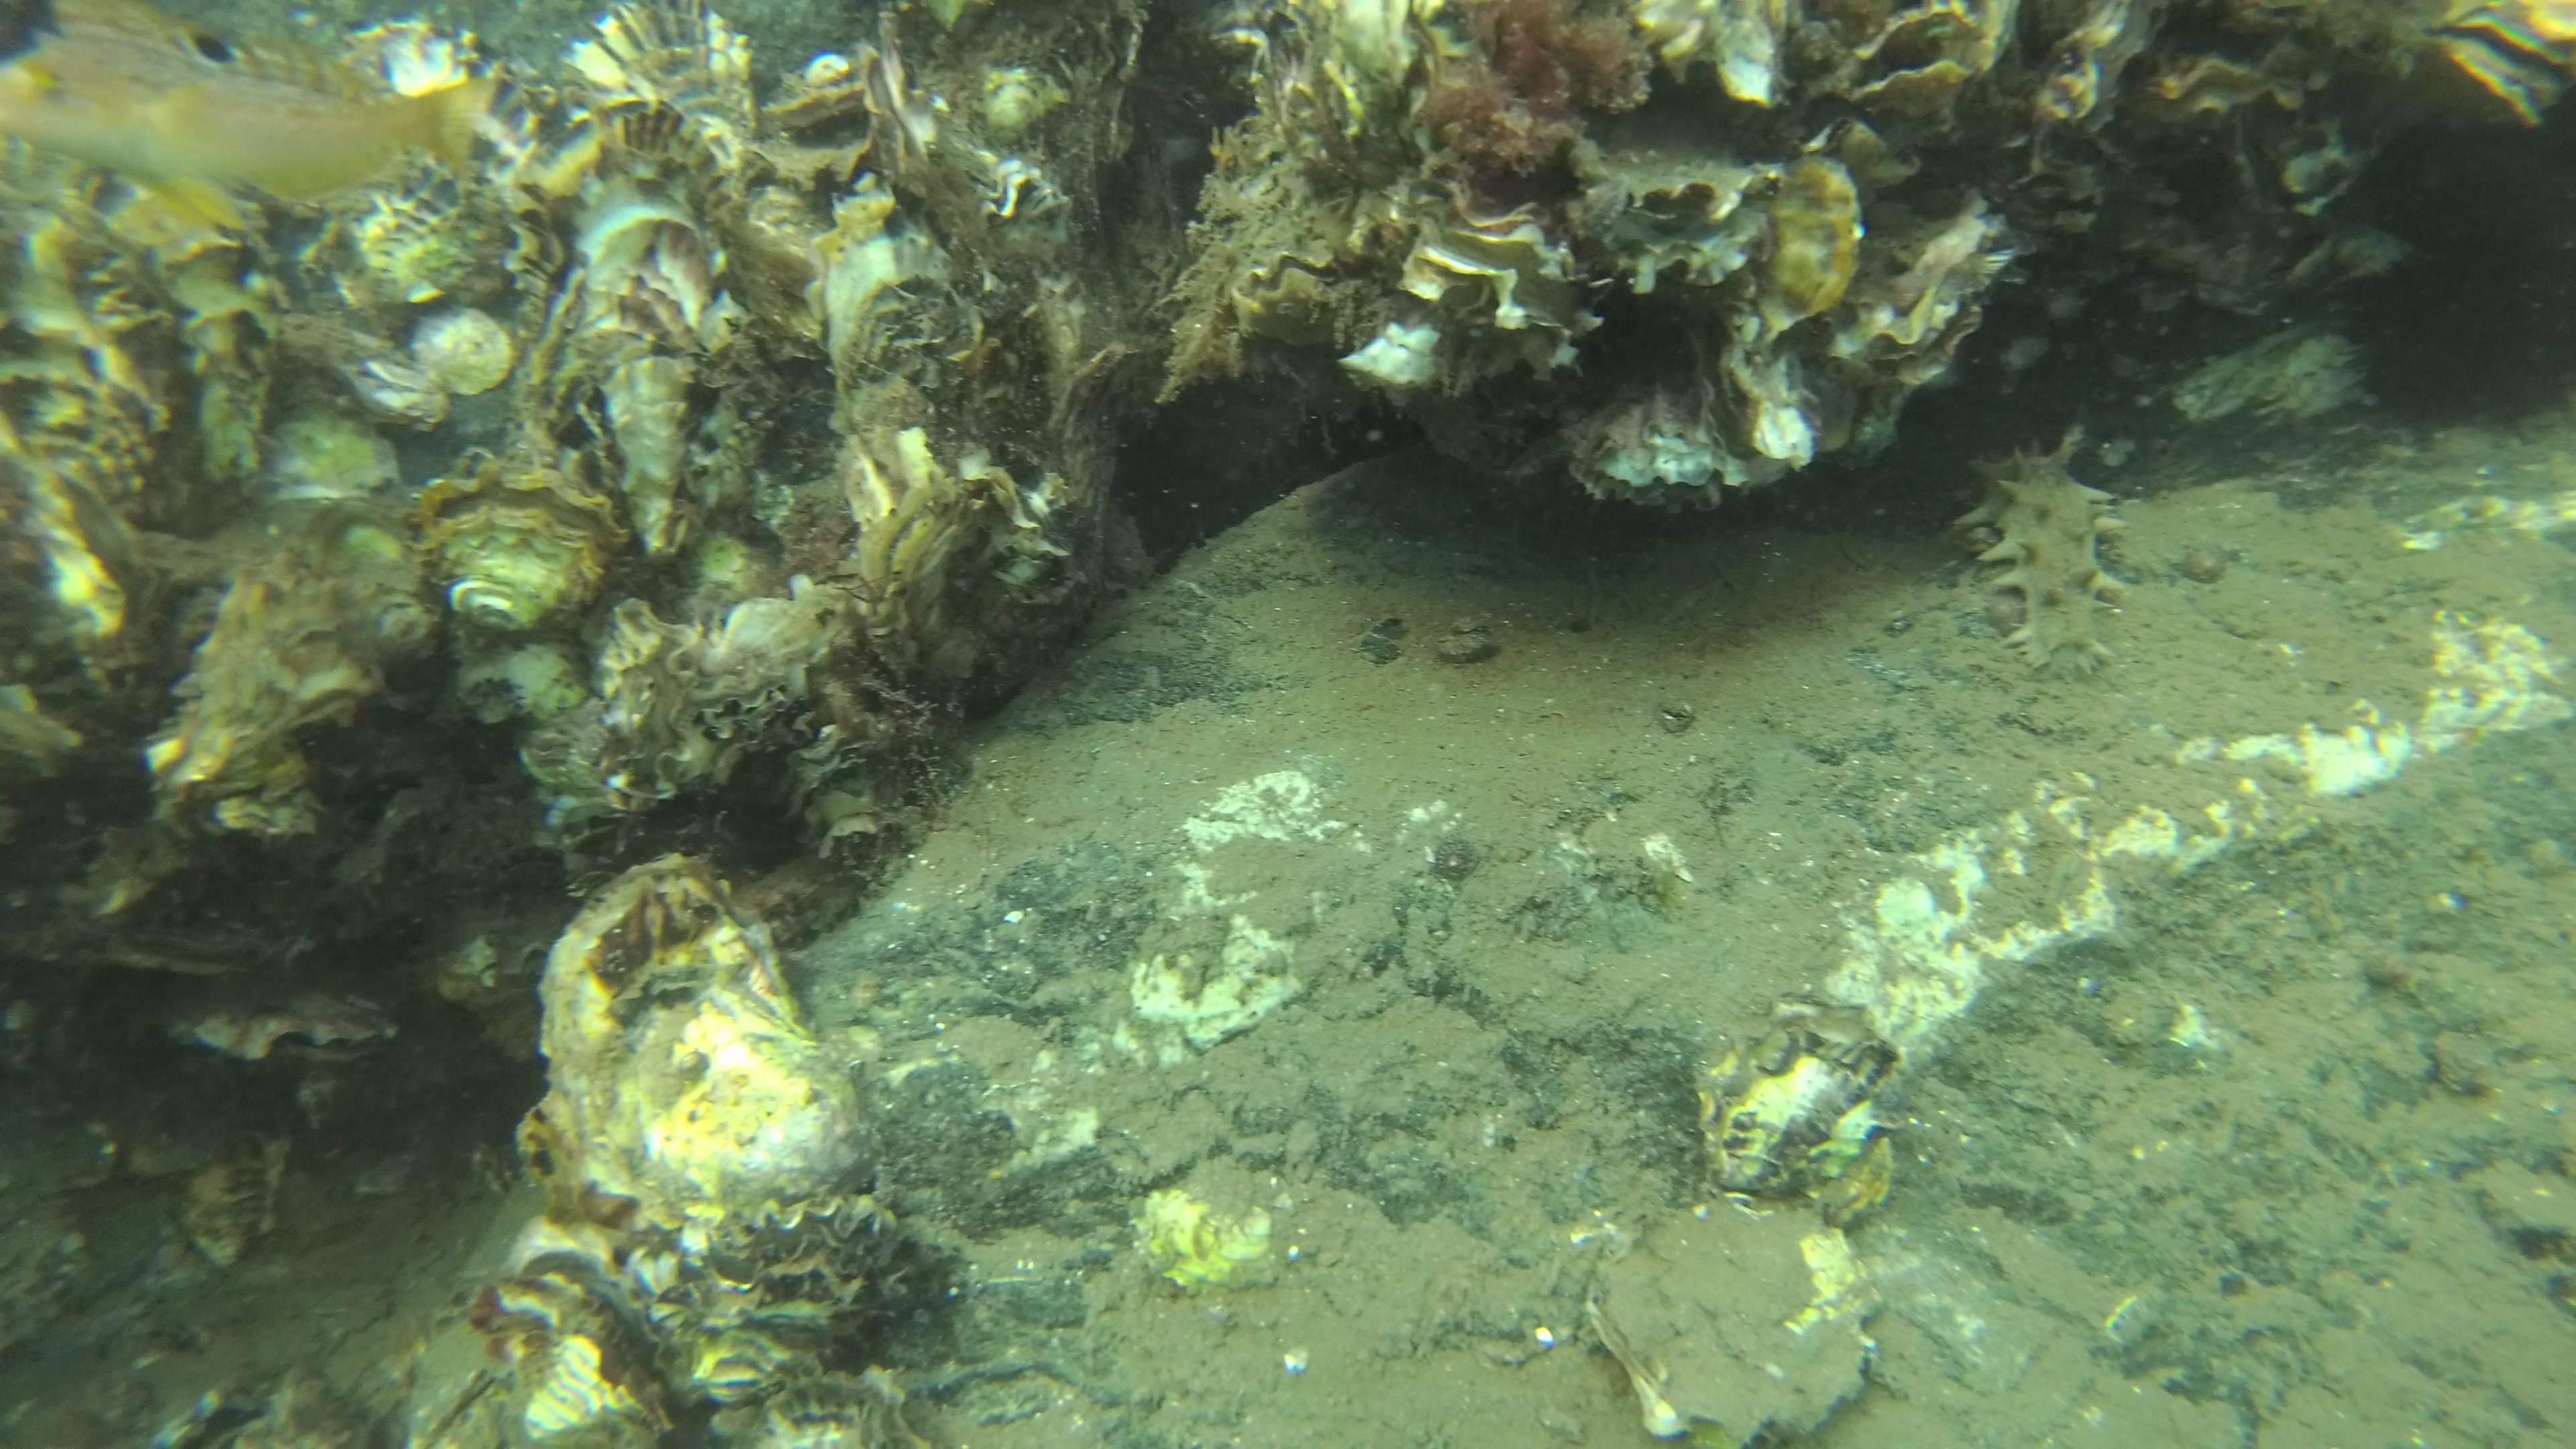holothurian: (1955, 426, 2128, 676)
